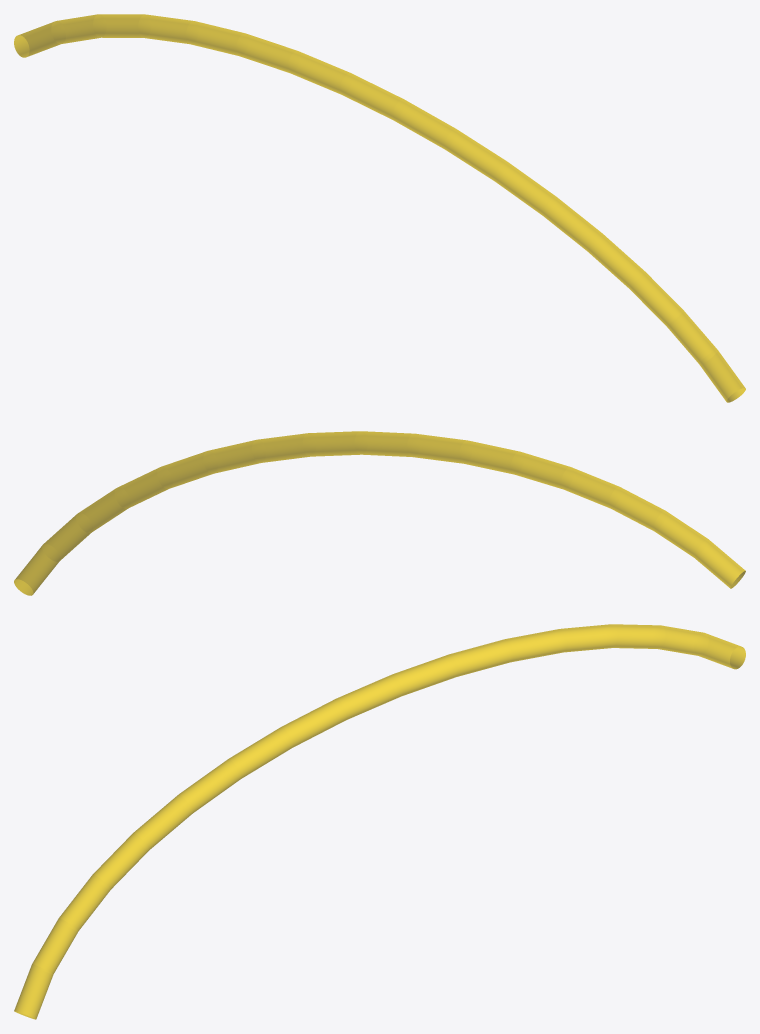
The model's file is Event_17758602_track_124.fbx.
3 renders of one model, top to bottom at view 1: azimuth 30°, elevation 25°; view 2: azimuth 210°, elevation 25°; view 3: azimuth 270°, elevation 25°, orthographic.
Parts seen in each view (by area): view 1: Model; view 2: Model; view 3: Model.
Part boxes in pixels (box(x1,y1,x2,y2)): Model: box(14, 14, 745, 402); Model: box(14, 431, 745, 595); Model: box(14, 624, 745, 1019).
Bounding box in the file's own units: 0.7389 × 0.4733 × 1.22.
